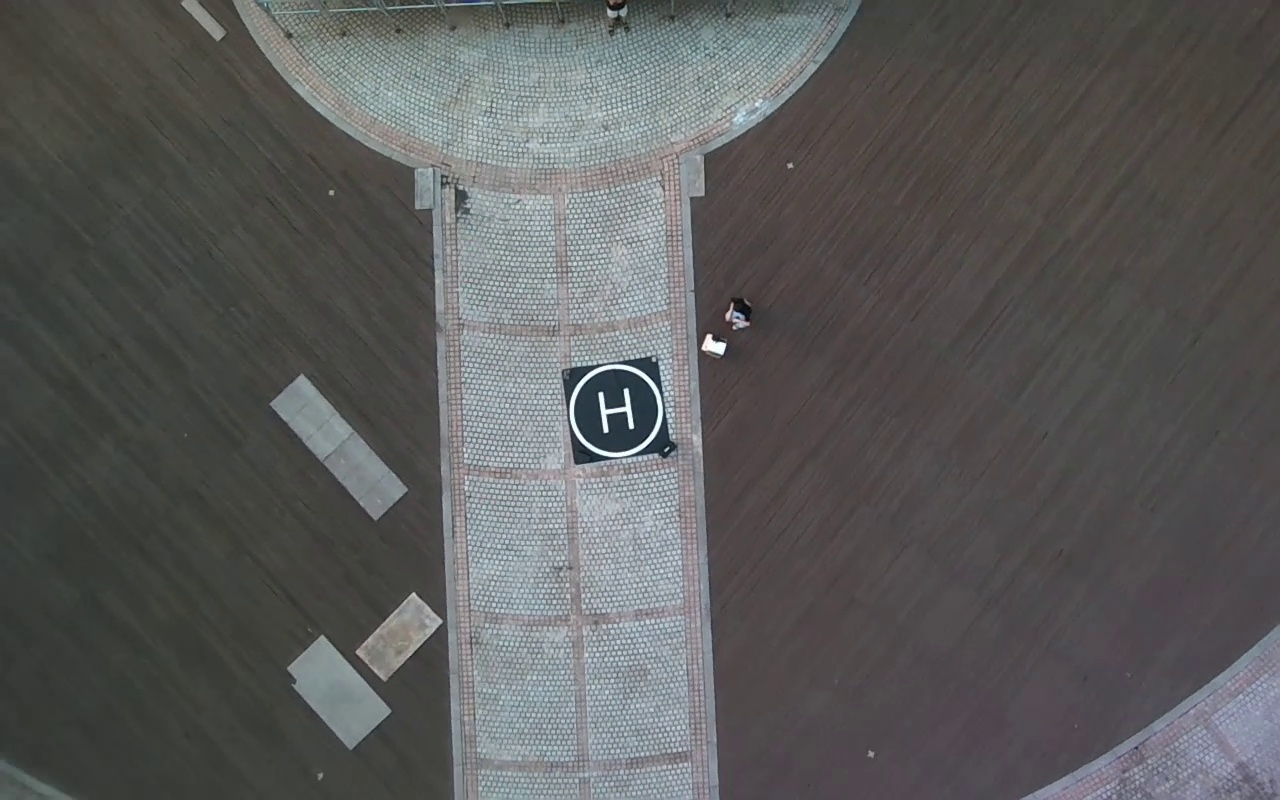H: (596, 388, 636, 433)
heliport: (568, 362, 664, 457)
